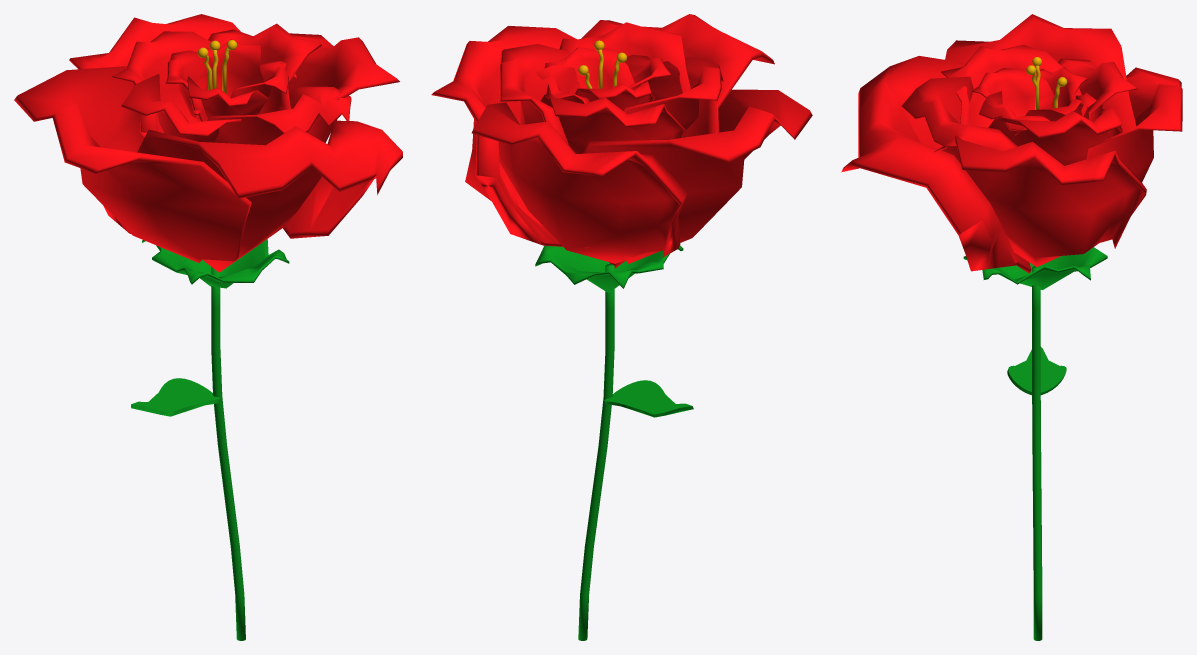
Rendered from rose.gltf.
The picture shows the model from 3 angles, left to right: view 1: azimuth 30°, elevation 25°; view 2: azimuth 150°, elevation 25°; view 3: azimuth 270°, elevation 25°; orthographic projection. The views are drawn at different scales.
Parts seen in each view (by area): view 1: Plane.001, Plane.002, Plane.003, Plane.006, Cylinder.003, Plane.004, Plane, Plane.007, Plane.005, Plane.012, Circle.001, Plane.011 (+3 smaller); view 2: Plane, Plane.001, Plane.003, Plane.002, Plane.004, Plane.007, Cylinder.003, Plane.005, Plane.006, Plane.012, Plane.010, Circle.001 (+3 smaller); view 3: Plane.003, Plane.002, Plane.001, Plane, Plane.006, Plane.007, Cylinder.003, Plane.005, Plane.009, Plane.012, Plane.004, Circle.001 (+3 smaller).
Boxes of the visible parts, <box> form: Plane.001: <box>14,66,251,262</box>; Plane.002: <box>137,120,402,272</box>; Plane.003: <box>288,33,399,142</box>; Plane.006: <box>197,86,351,145</box>; Cylinder.003: <box>211,267,245,640</box>; Plane.004: <box>111,31,220,137</box>; Plane: <box>69,14,240,233</box>; Plane.007: <box>208,23,321,114</box>; Plane.005: <box>121,74,241,142</box>; Plane.012: <box>142,239,289,288</box>; Circle.001: <box>131,378,220,416</box>; Plane.011: <box>197,39,264,97</box>; Plane: <box>471,102,688,263</box>; Plane.001: <box>583,89,812,263</box>; Plane.003: <box>431,26,576,246</box>; Plane.002: <box>581,14,774,268</box>; Plane.004: <box>540,94,686,153</box>; Plane.007: <box>499,44,571,144</box>; Cylinder.003: <box>578,264,614,640</box>; Plane.005: <box>623,56,723,130</box>; Plane.006: <box>559,22,690,92</box>; Plane.012: <box>535,245,683,293</box>; Plane.010: <box>544,47,634,97</box>; Circle.001: <box>604,380,693,417</box>; Plane.003: <box>942,135,1146,266</box>; Plane.002: <box>841,56,1031,273</box>; Plane.001: <box>945,14,1136,131</box>; Plane: <box>1085,67,1182,181</box>; Plane.006: <box>901,76,1017,152</box>; Plane.007: <box>988,106,1122,165</box>; Cylinder.003: <box>1032,266,1042,640</box>; Plane.005: <box>940,45,1087,127</box>; Plane.009: <box>971,68,1054,116</box>; Plane.012: <box>963,247,1107,289</box>; Plane.004: <box>1058,58,1137,121</box>; Circle.001: <box>1007,346,1066,395</box>.
Bounding box in the file's own units: 2.35 × 4.32 × 2.36.
